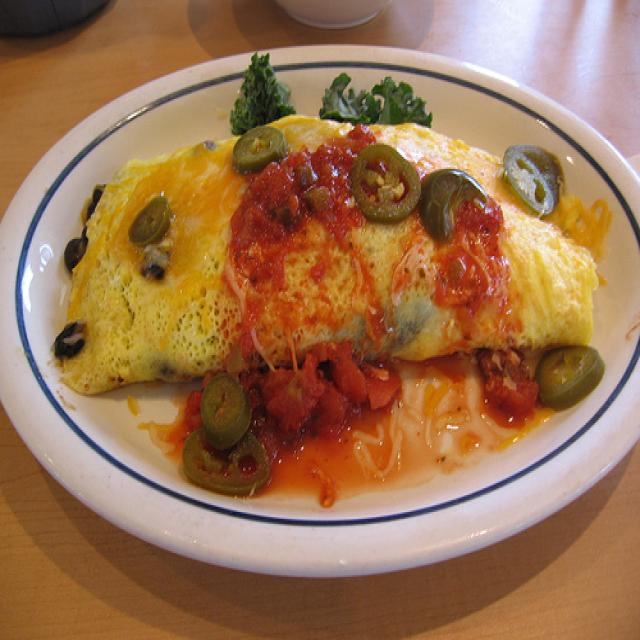鸡蛋料理: (25, 99, 616, 389)
